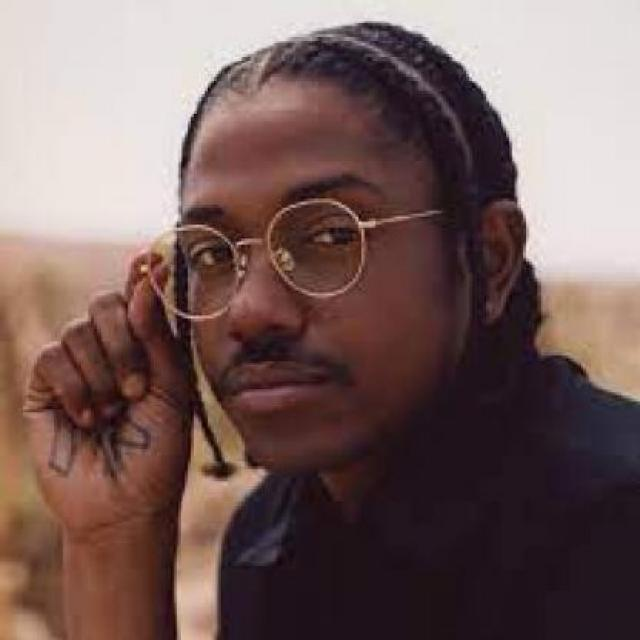glasses: (139, 191, 381, 326)
